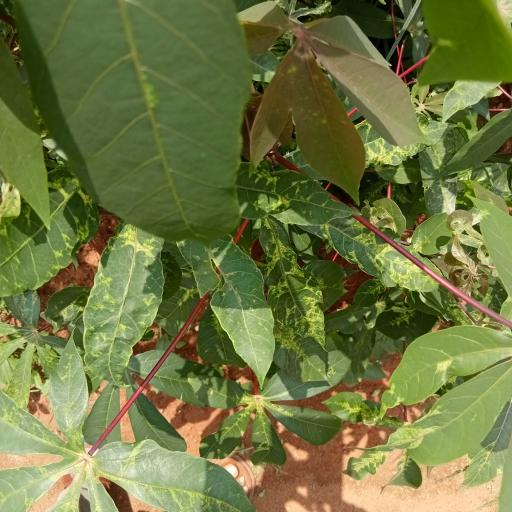Cassava_Healthy: (0, 341, 242, 511)
